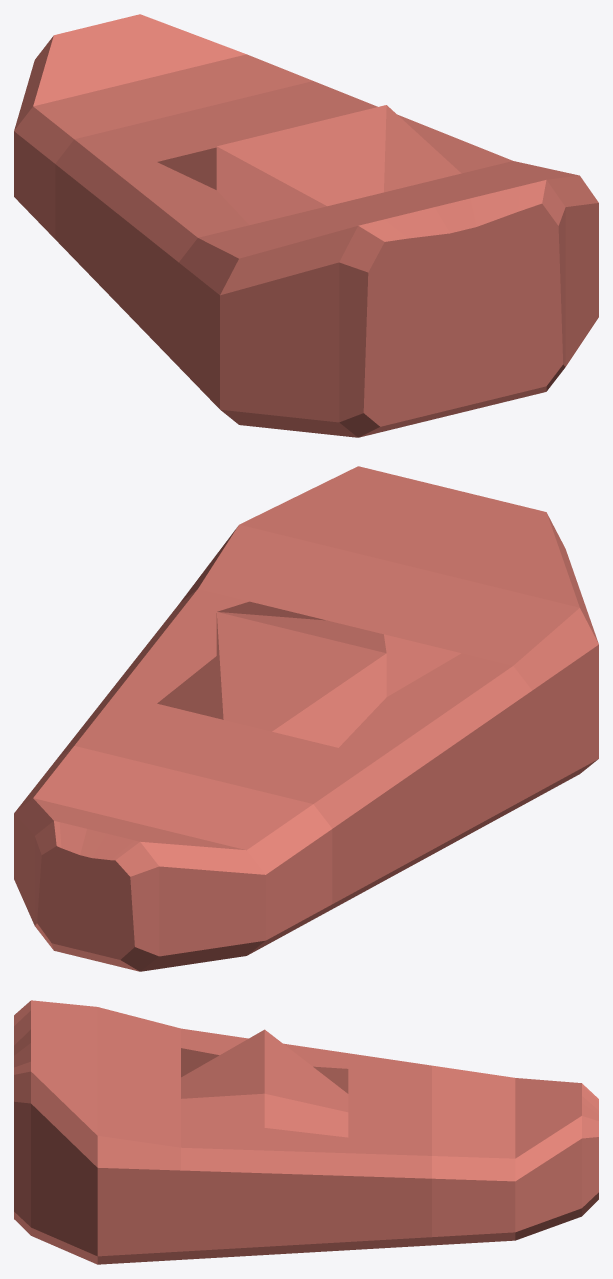
Rendered from calder_heavy_a.glb.
The picture shows the model from 3 angles, top to bottom: view 1: azimuth 30°, elevation 25°; view 2: azimuth 150°, elevation 25°; view 3: azimuth 270°, elevation 25°; orthographic projection. The views are drawn at different scales.
Visible parts, largest first — view 1: calder_heavy_a; view 2: calder_heavy_a; view 3: calder_heavy_a.
Boxes of the visible parts, x1=… form: calder_heavy_a: x1=14, y1=14, x2=598, y2=437; calder_heavy_a: x1=14, y1=466, x2=598, y2=971; calder_heavy_a: x1=14, y1=1000, x2=598, y2=1264.
Bounding box in the file's own units: 4 × 2.14 × 6.9.
